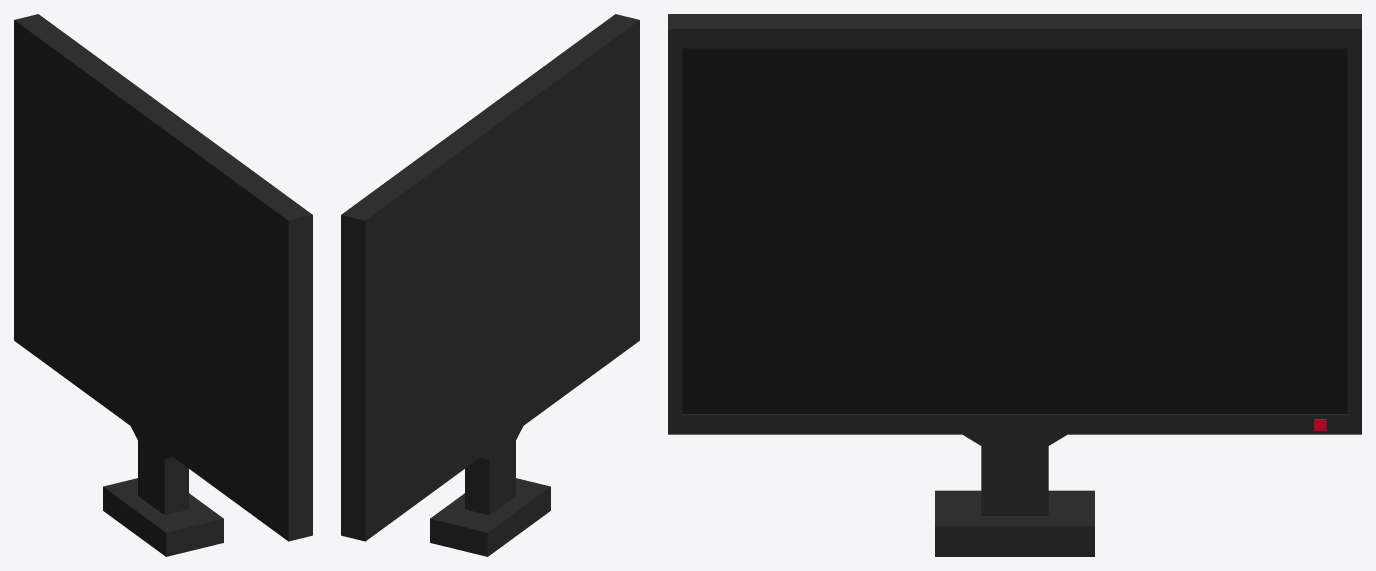
File: Monitor.fbx
3 renders of one model, left to right at view 1: azimuth 30°, elevation 25°; view 2: azimuth 150°, elevation 25°; view 3: azimuth 270°, elevation 25°, orthographic. The views are drawn at different scales.
Visible parts, largest first — view 1: Monitor; view 2: Monitor; view 3: Monitor.
Boxes of the visible parts, x1,y1,x2,y2 form: Monitor: (14,14,312,556); Monitor: (341,14,639,556); Monitor: (668,14,1361,556).
Bounding box in the file's own units: 9.83 × 66.49 × 80.78.
